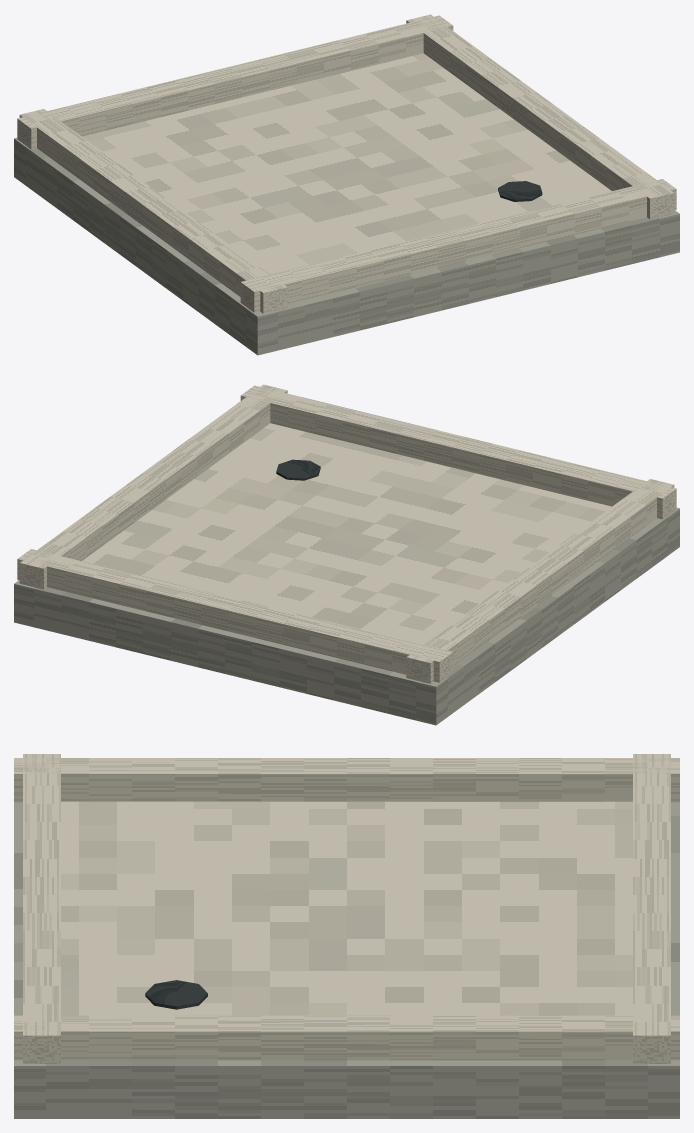
File: plato_ducha.glb
3 renders of one model, top to bottom at view 1: azimuth 30°, elevation 25°; view 2: azimuth 150°, elevation 25°; view 3: azimuth 270°, elevation 25°, orthographic. The views are drawn at different scales.
Visible parts, largest first — view 1: plato_ducha; view 2: plato_ducha; view 3: plato_ducha.
Part boxes in pixels (bbox=[...]): plato_ducha: bbox=[14, 14, 679, 355]; plato_ducha: bbox=[14, 384, 679, 725]; plato_ducha: bbox=[14, 754, 679, 1118].
Size of the model in its own units: 0.9053 by 0.125 by 0.9053.
Materials: 1 (1 with a texture image).
